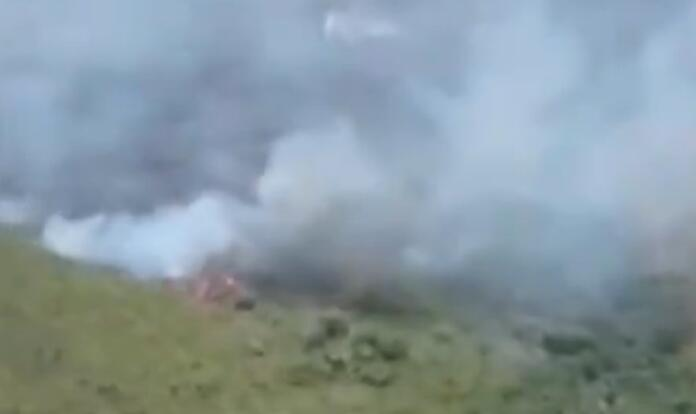yanwu: (23, 1, 695, 284)
